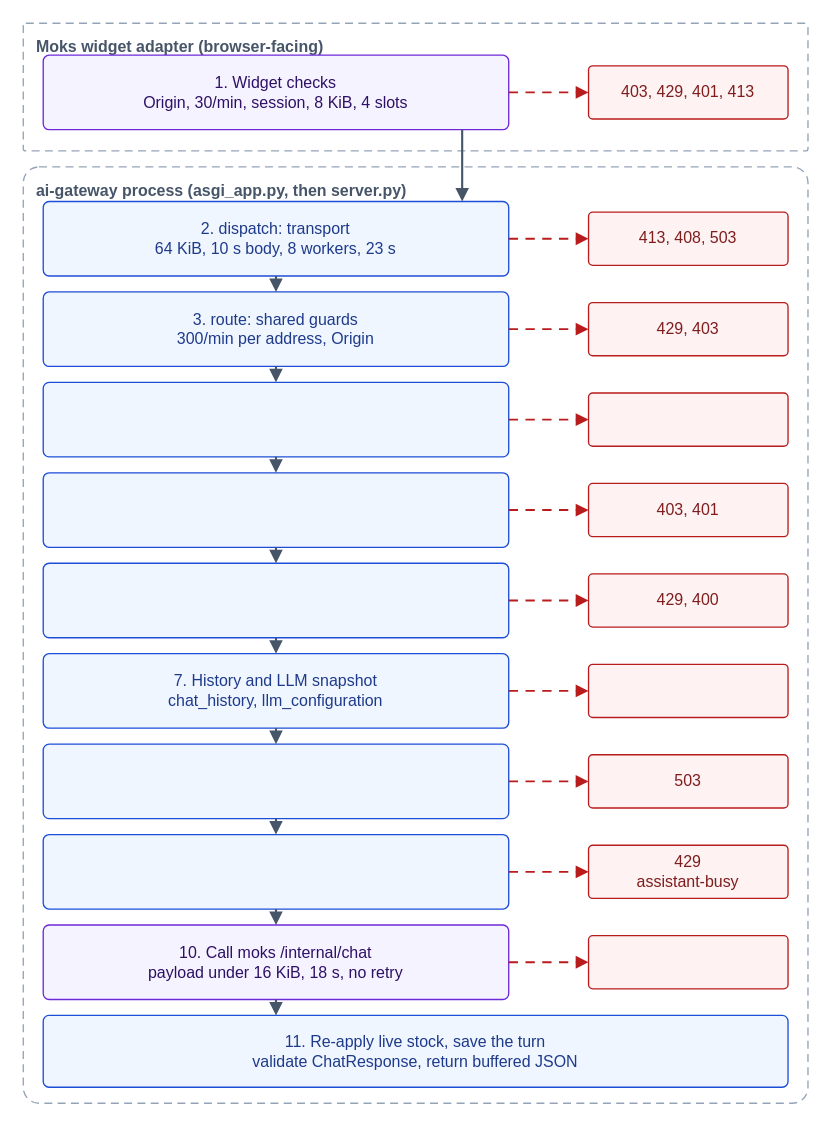
The diagram is 831 pixels wide and 1127 high, and some of its shapes have lost their labels. Each missing label, with the centre of its shape:
"200 not-configured" belongs at [687,690].
"4. Session lookup user-service /internal/session" belongs at [275,419].
"5. /api/chat authorization service token, then require_role" belongs at [275,509].
"503 fails closed" belongs at [687,419].
"503 feature-unavailable" belongs at [687,961].
"6. Limit and contract 10/min per address, ChatRequest" belongs at [275,600].
"8. Catalogue and stock 2 s read, unavailableSkus" belongs at [275,781].
"9. Admission 2 chat slots" belongs at [275,871].
